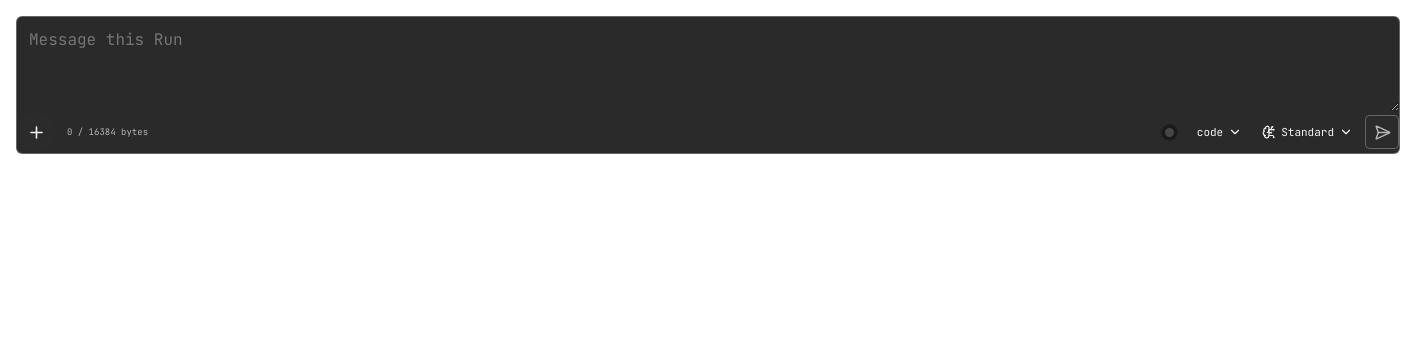
Test: SessionComposer › shows a safe provisional reply and cancels its exact active attempt
This screenshot has width=1417, height=338.
Type "Inspect this change" into the text box named "Message current Run". click: (708, 64)
box: [17,17,1399,111]
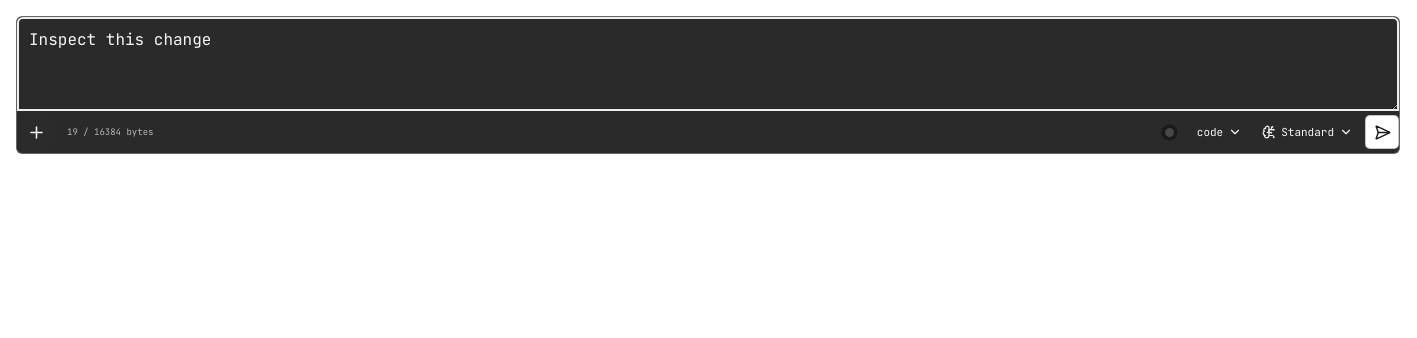
Click the button named "Queue message". click: (1382, 132)
box: [1365,115,1399,149]
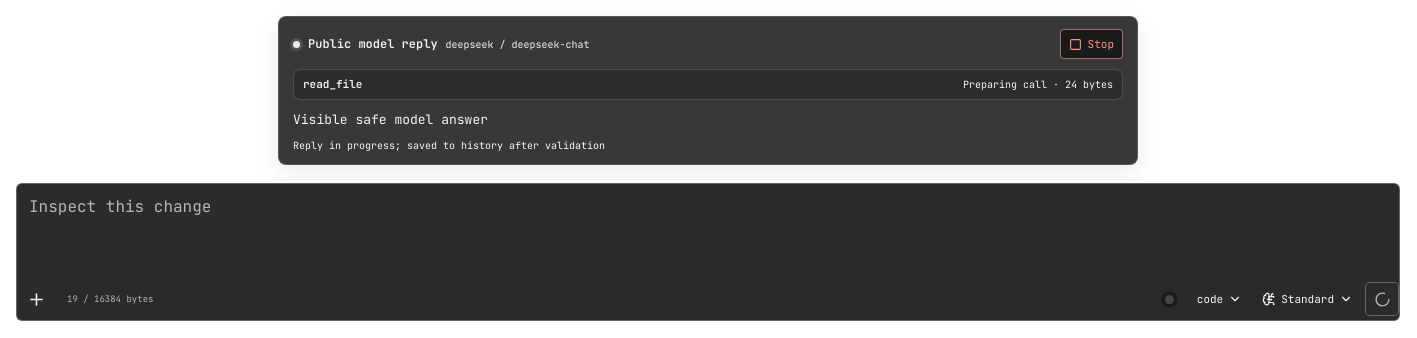
Now the text "Visible safe model answer" is shown, box [293,111,488,128]
Now the text "read_file" is shown, box [303,77,362,92]
Now the text "Preparing call · 24 bytes" is shown, box [963,78,1113,91]
Click the button "Stop". click: (1091, 44)
box: [1060,29,1123,59]
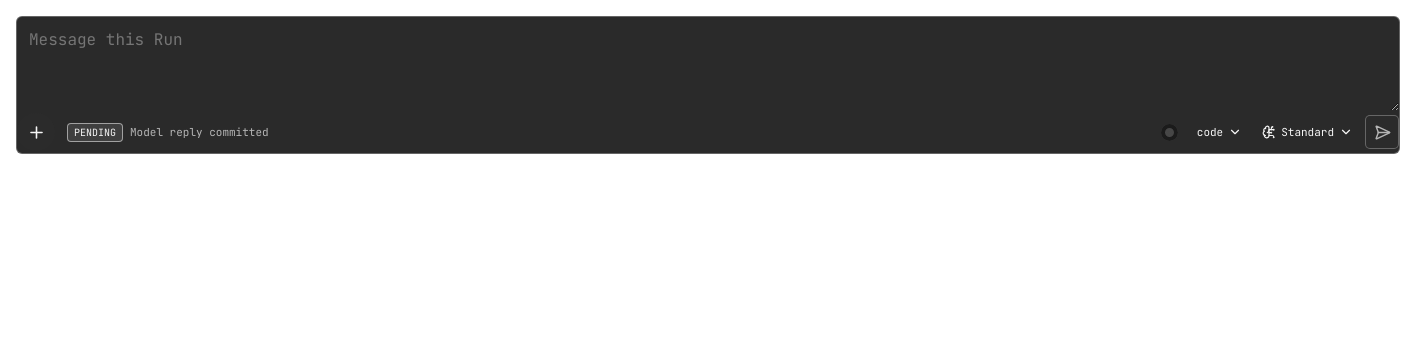
Now the text "Model reply committed" is shown, box [130,125,269,139]
